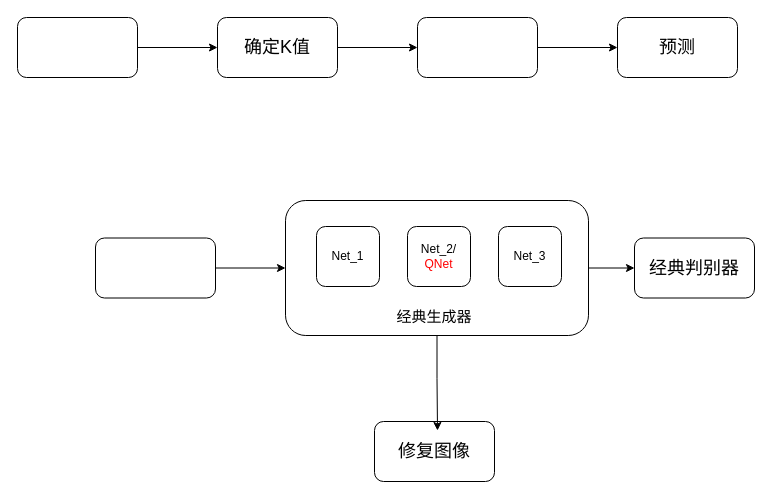
The diagram is 772 pixels wide and 499 high, and some of its shapes have lost their labels. The centre of each missing label's shape, as x and y in pixels:
"待修复图像" belongs at (x=155, y=267).
"数据准备与预处理" belongs at (x=77, y=47).
"欧式距离/ 量子态内积" belongs at (x=477, y=47).
